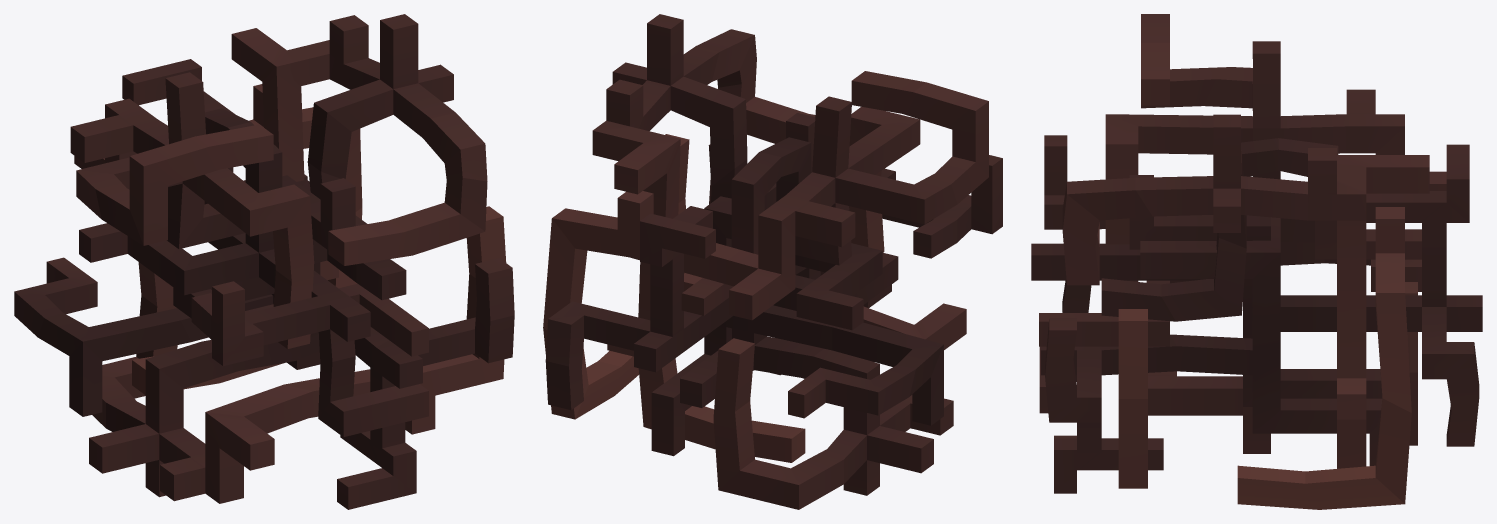
File: tumble_weed.fbx
The picture shows the model from 3 angles, left to right: view 1: azimuth 30°, elevation 25°; view 2: azimuth 150°, elevation 25°; view 3: azimuth 270°, elevation 25°; orthographic projection. The views are drawn at different scales.
Visible parts, largest first — view 1: tumble_weed; view 2: tumble_weed; view 3: tumble_weed.
Part boxes in pixels (x1,y1,x2,y2): tumble_weed: (14,14,514,509); tumble_weed: (543,14,1002,509); tumble_weed: (1031,14,1482,509).
Size of the model in its own units: 140 by 156 by 146.
